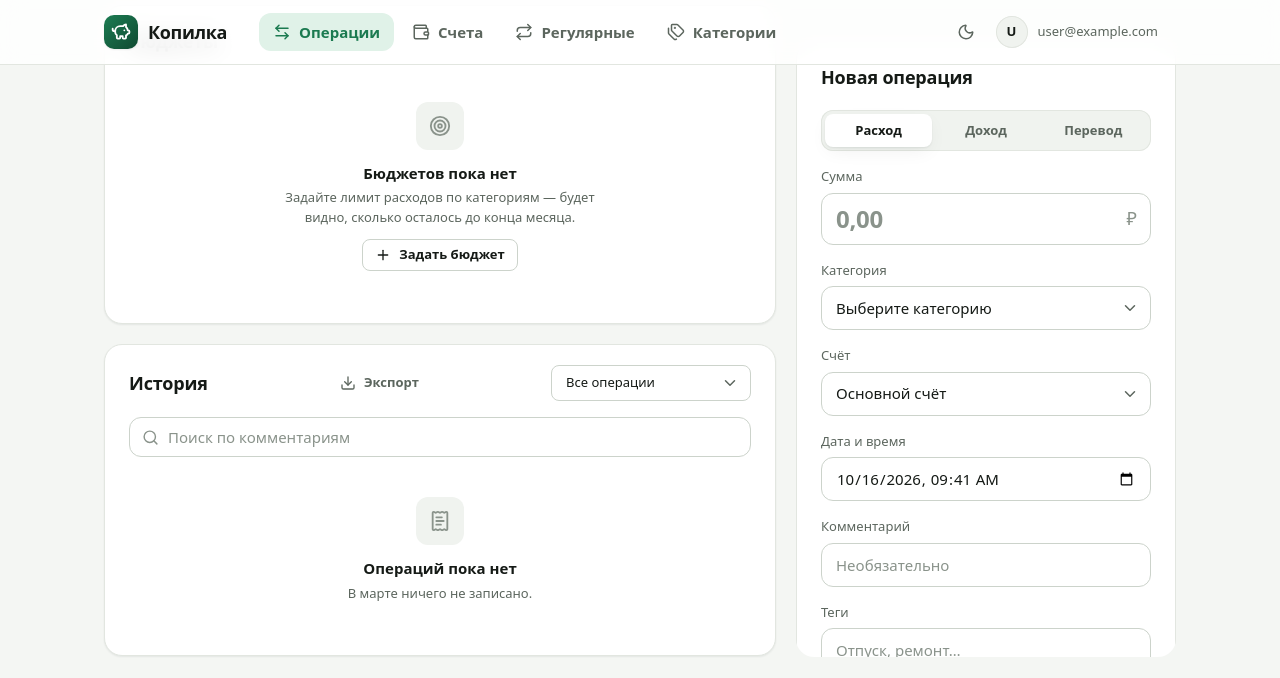
Scenario: TransactionList › asks the API for the picked month and filter and keeps them in the URL
(page scrolled)
Expected: the text "Операций пока нет" is shown, [363,557,517,580]
Select "Все доходы" in the dropdown named "Показать" at (651, 383), box [551,365,751,401]
(page scrolled)
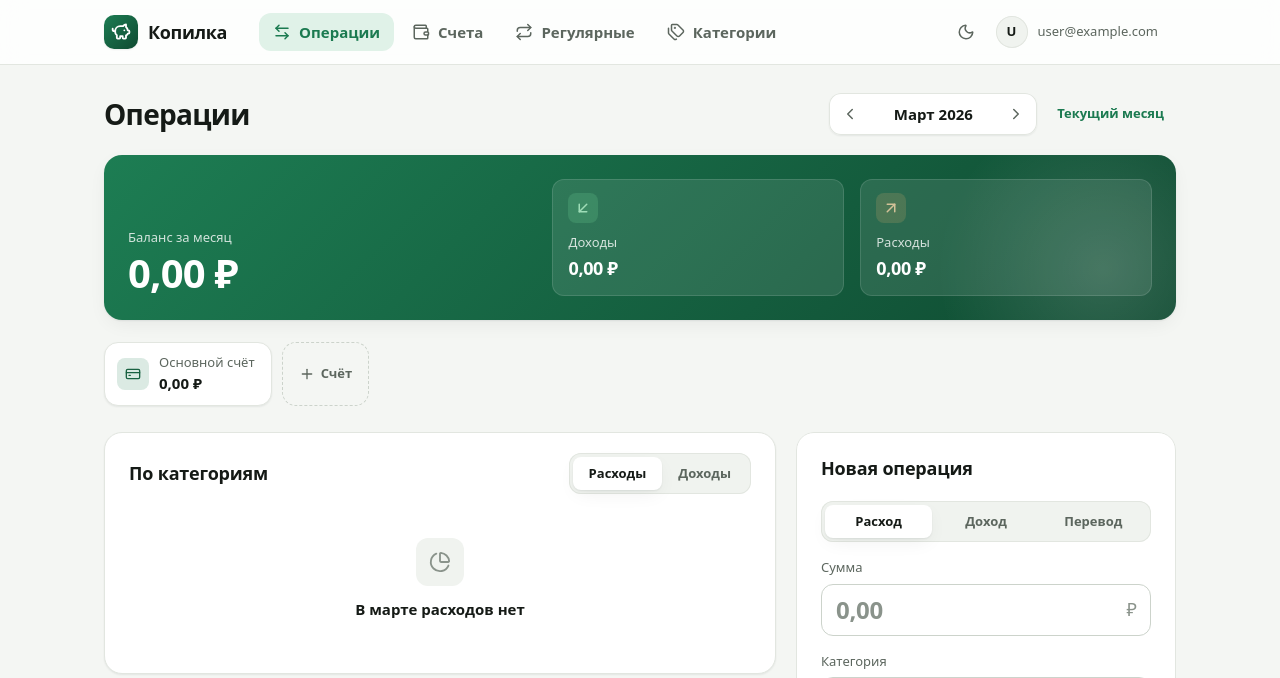
Click the button named "Следующий месяц".
click(1016, 114)  # box [999,97,1033,131]
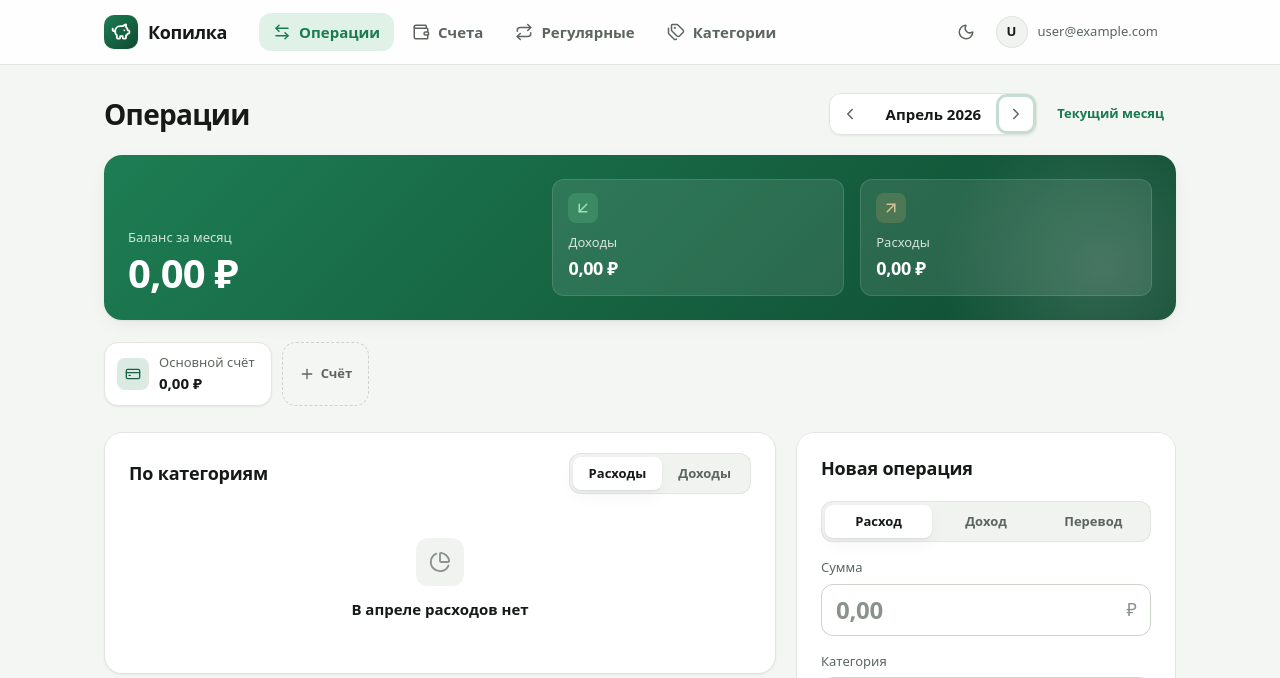
Now the text "Апрель 2026" is shown, box [886,104,981,124]
